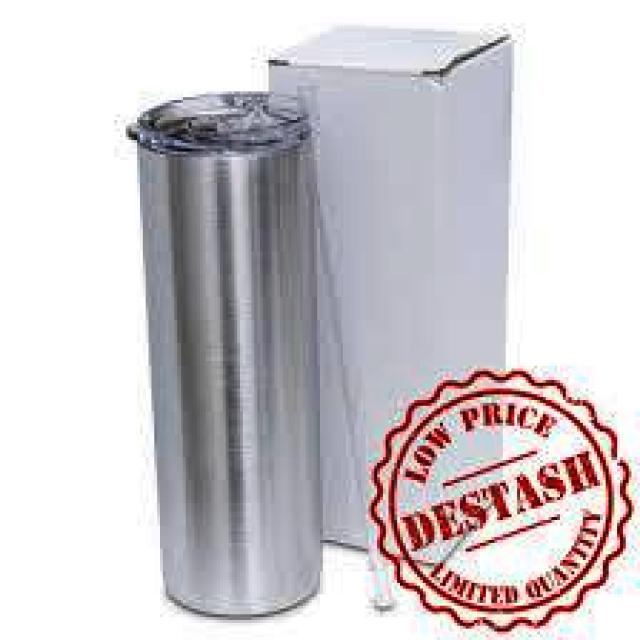bottle: (121, 87, 333, 622)
